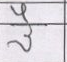ai_matra: (10, 3, 34, 23)
